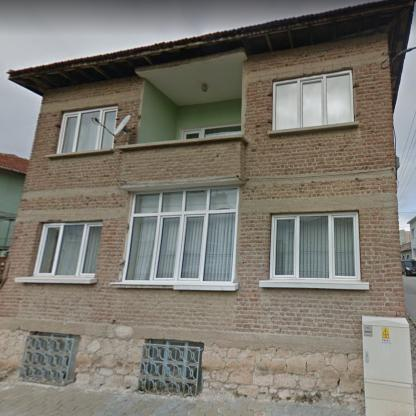window: (122, 186, 238, 282), (269, 212, 359, 280), (272, 71, 354, 130), (33, 222, 102, 277), (56, 106, 117, 154), (144, 343, 201, 390), (19, 334, 74, 382), (181, 125, 240, 139)
